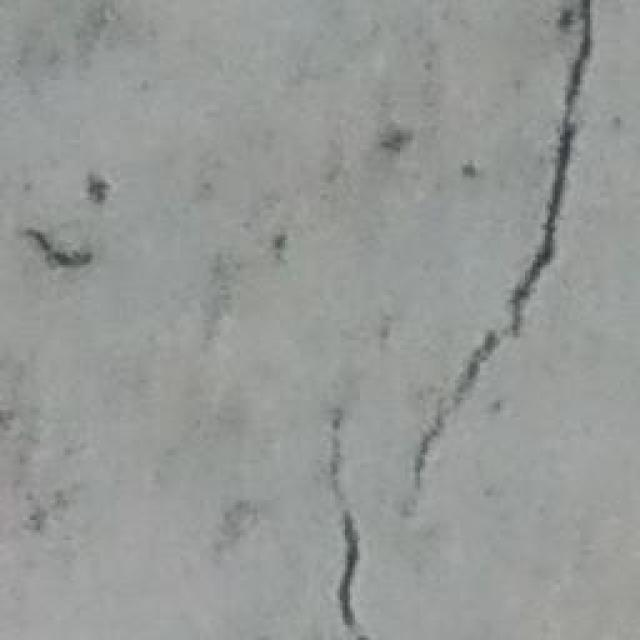Longitudinal: (405, 0, 591, 522), (310, 391, 384, 640)
